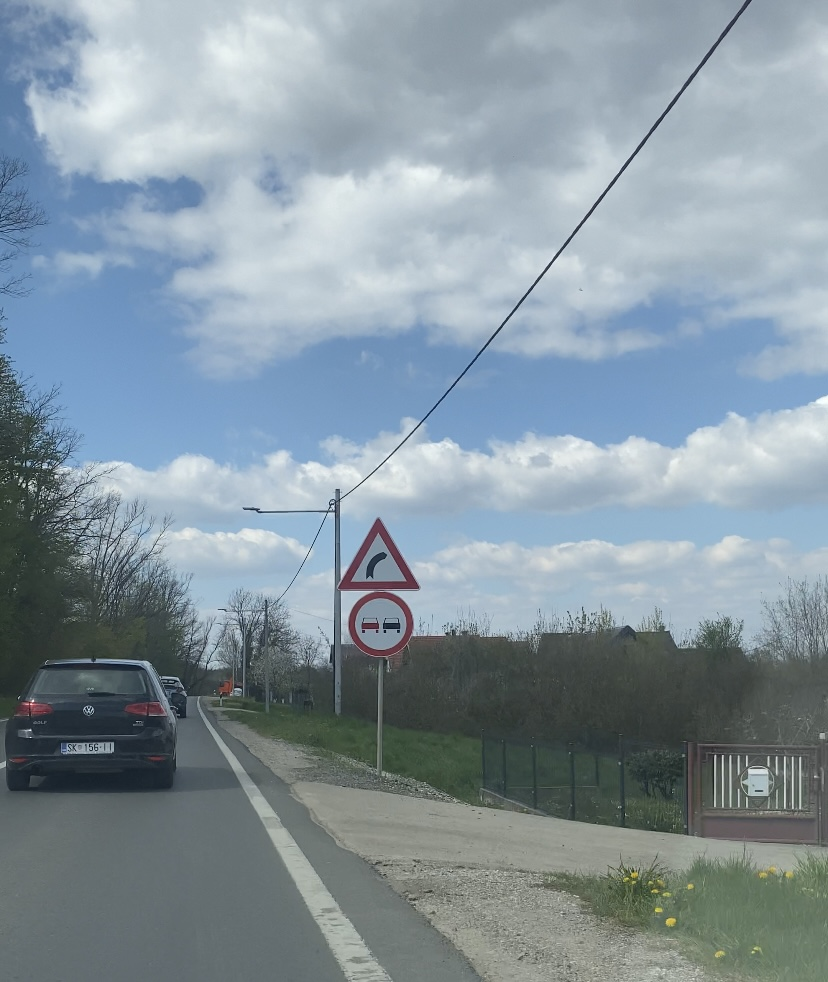Zabrana pretjecanja: (348, 590, 414, 658)
